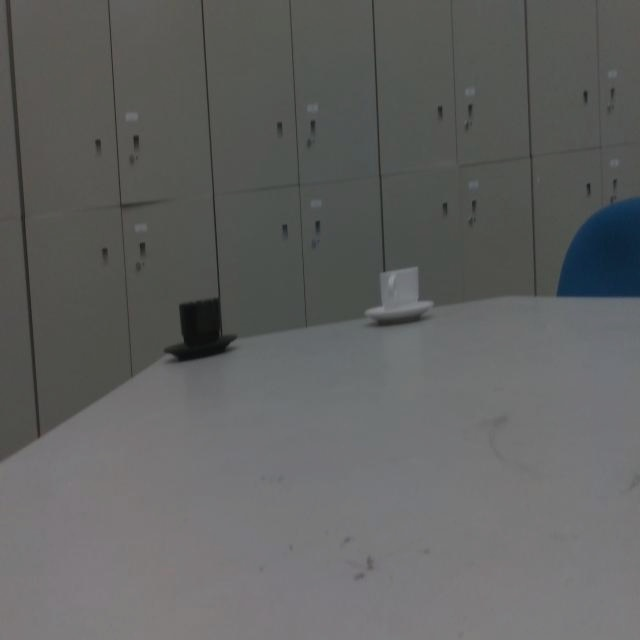black: (161, 296, 239, 362)
white: (363, 264, 436, 328)
